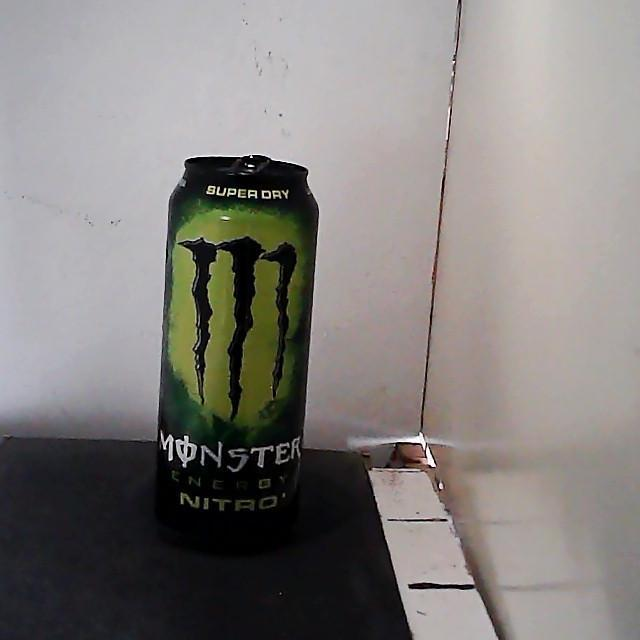metal: (156, 155, 318, 547)
